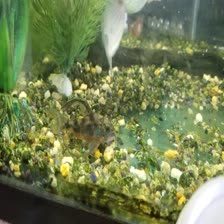Kiros: (41, 96, 131, 155)
